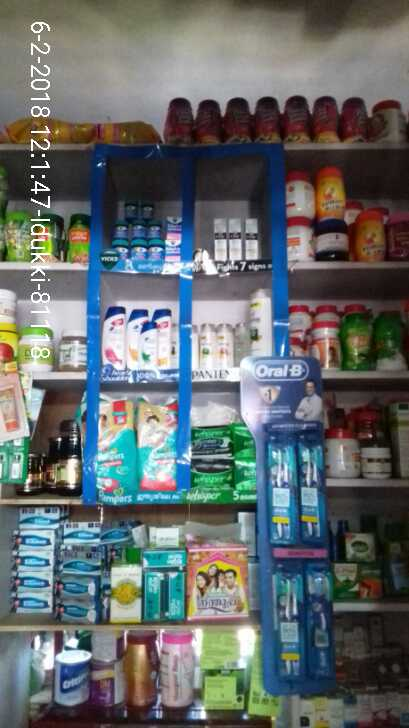oralcare: (249, 357, 333, 684)
vicks: (115, 201, 183, 262)
